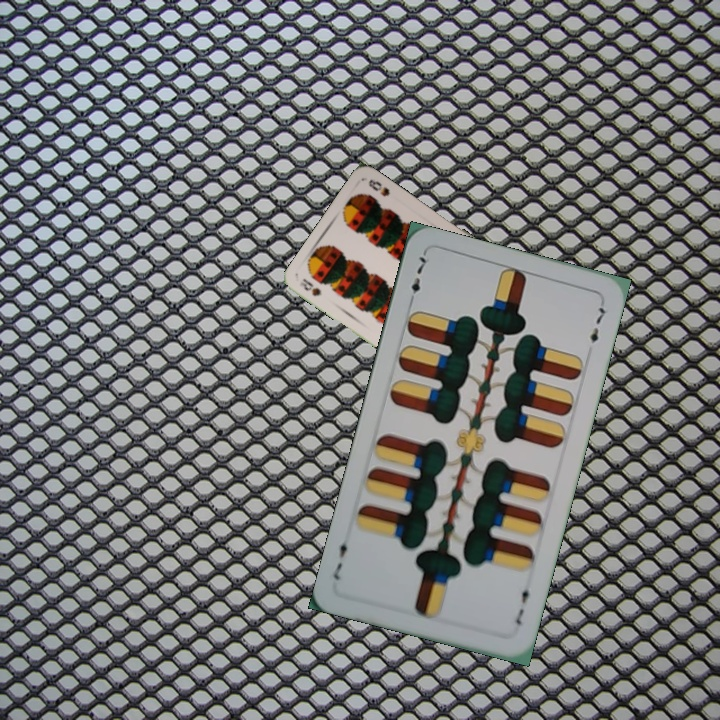E7: (407, 250, 429, 308), (511, 579, 534, 628)
S8: (296, 274, 324, 299)
